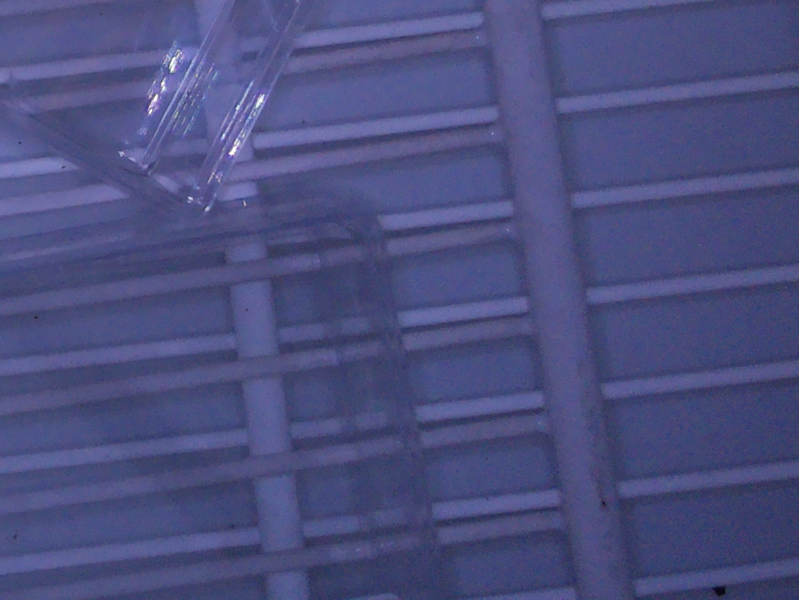plate: (1, 195, 450, 600), (1, 1, 315, 218)
